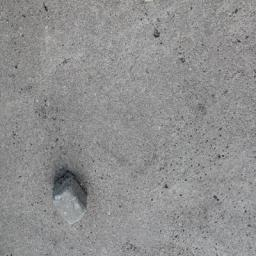FOD: (51, 169, 93, 228)
